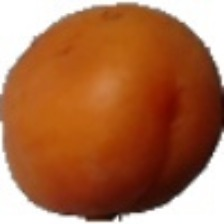apricot: (52, 19, 202, 210)
